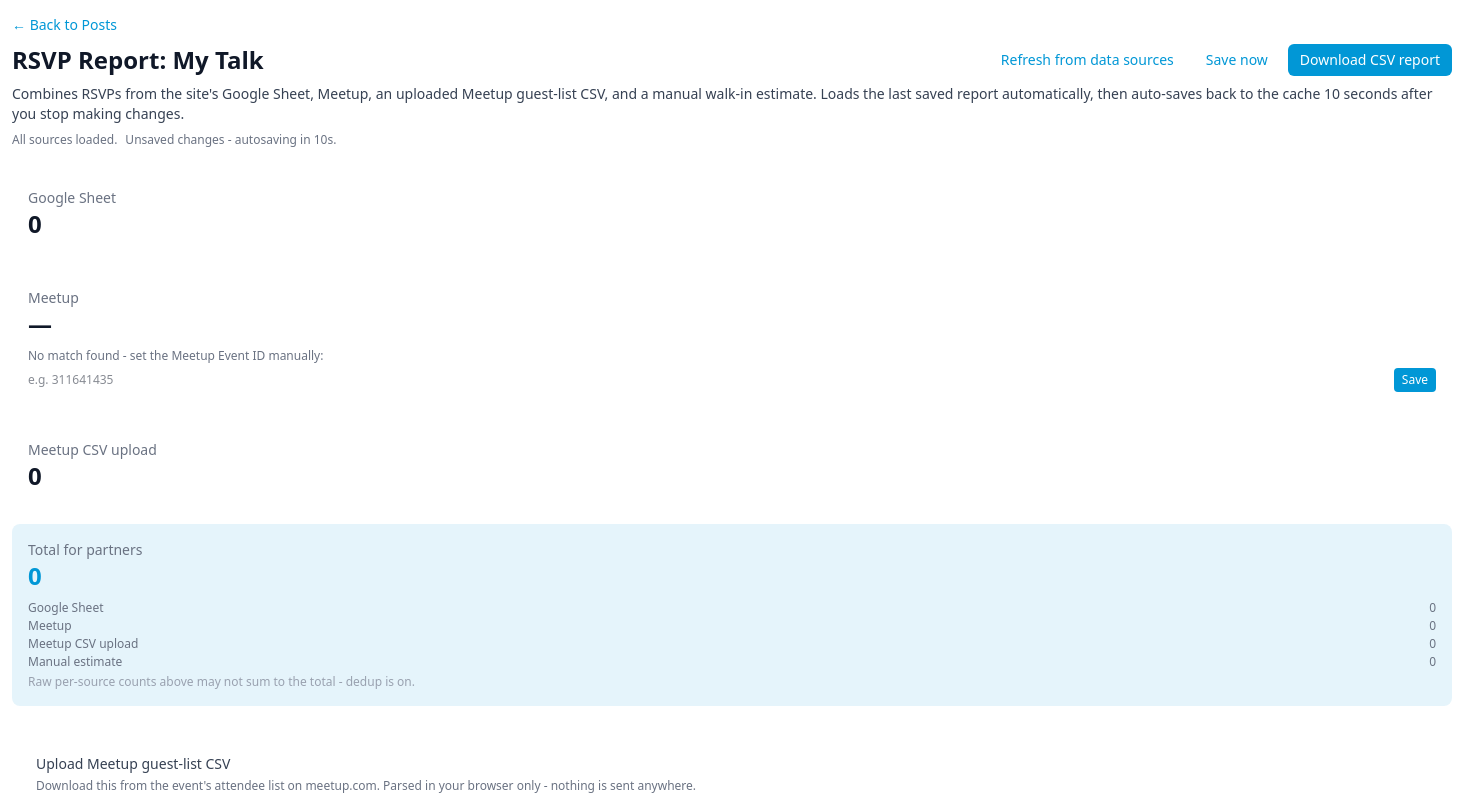
it: RsvpReportPage - manual Meetup Event ID › shows a failure message when the manual Meetup Event ID lookup itself fails
This screenshot has width=1464, height=795.
Expected: the text "No match found - set the Meetup Event ID manually:" is shown, [28,347,324,364]
In the field labelled "No match found - set the Meetup Event ID manually:": point(707, 380) [28,368,1386,392], type "999"
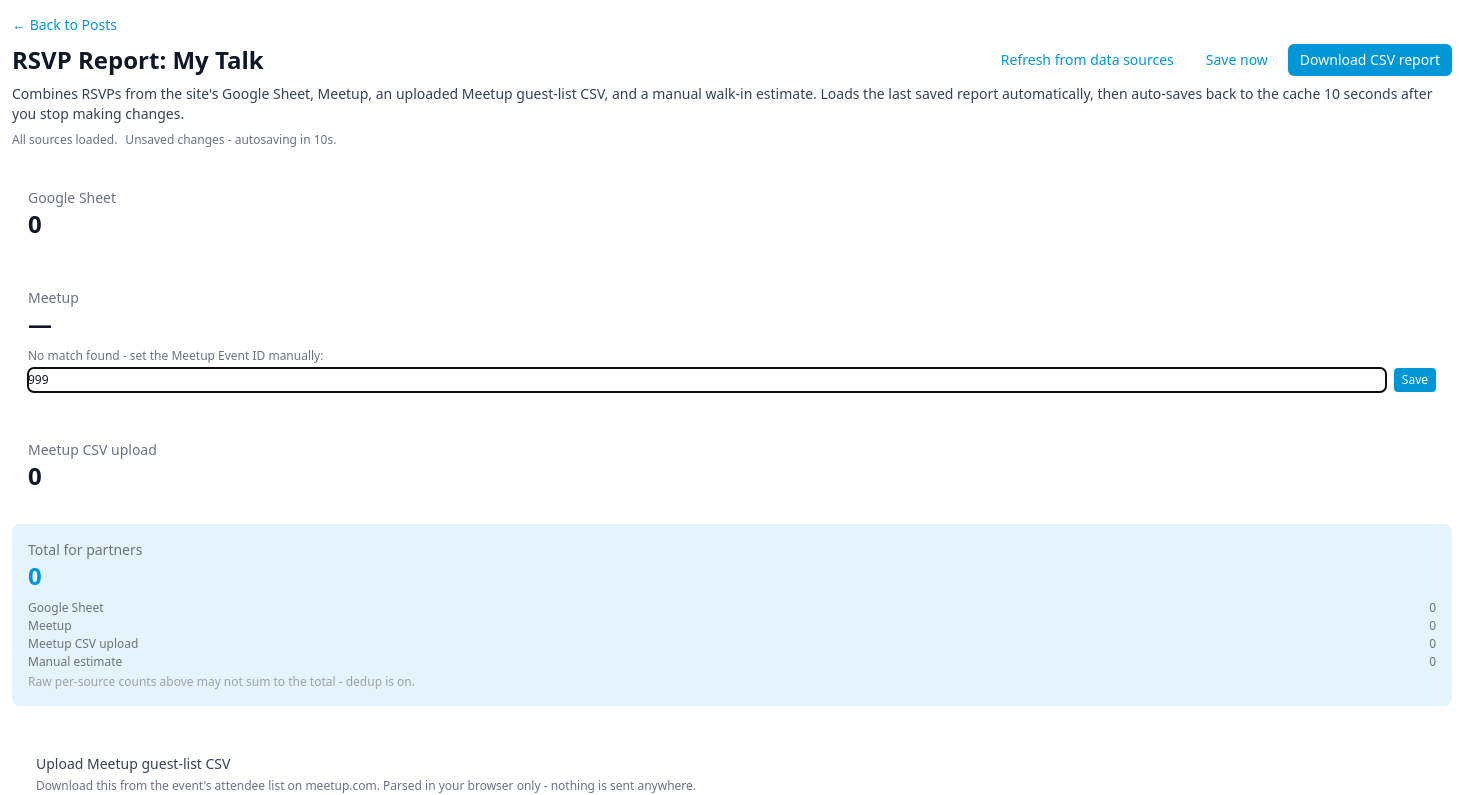
Click the button "Save": point(1415, 380) [1394,368,1436,392]
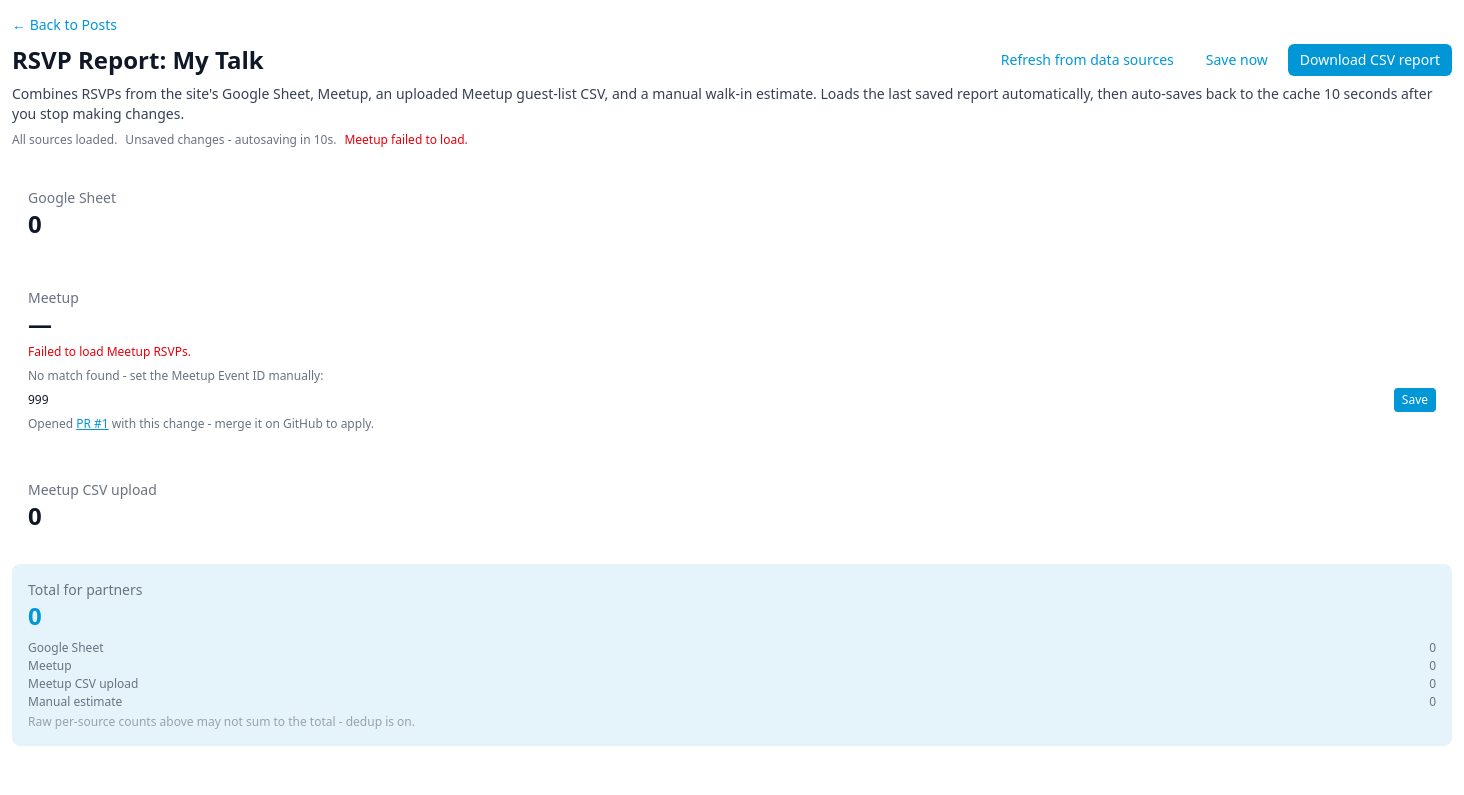
Now the text "Failed to load Meetup RSVPs." is shown, box [28,343,191,360]
